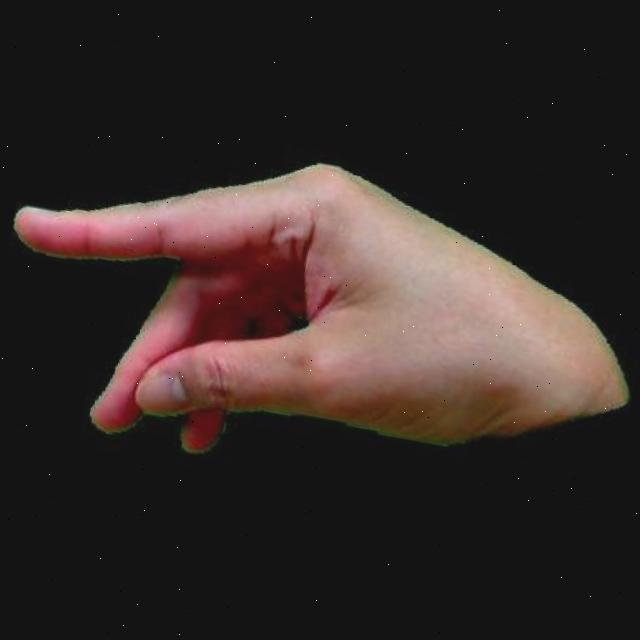p: (0, 97, 640, 537)
